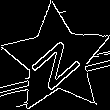N_NE: (25, 28, 88, 91)
